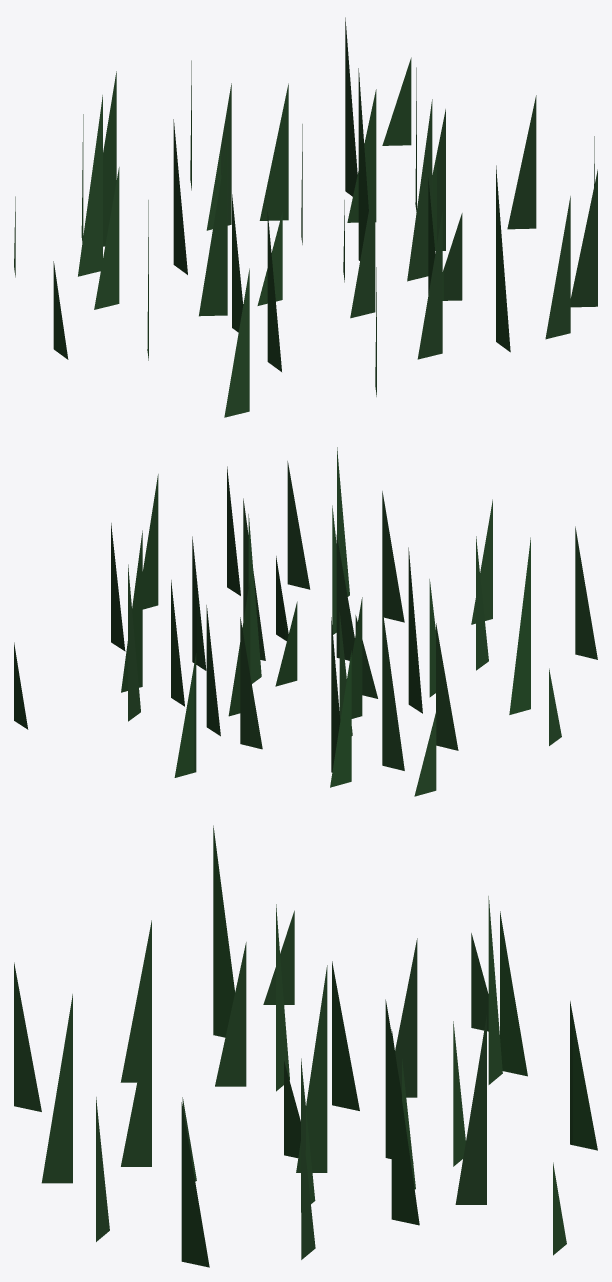
The model's file is grassformulti2.obj.
3 views of the same model, one above another, from view 1: azimuth 30°, elevation 25°; view 2: azimuth 150°, elevation 25°; view 3: azimuth 270°, elevation 25° (orthographic). The views are drawn at different scales.
Parts seen in each view (by area): view 1: grassformulti2; view 2: grassformulti2; view 3: grassformulti2.
Boxes of the visible parts, x1,y1,x2,y2 form: grassformulti2: (14, 17, 597, 417); grassformulti2: (14, 447, 597, 796); grassformulti2: (14, 825, 597, 1267).
Size of the model in its own units: 0.0311 by 0.0116 by 0.0292.
1 material, 1 textured.
